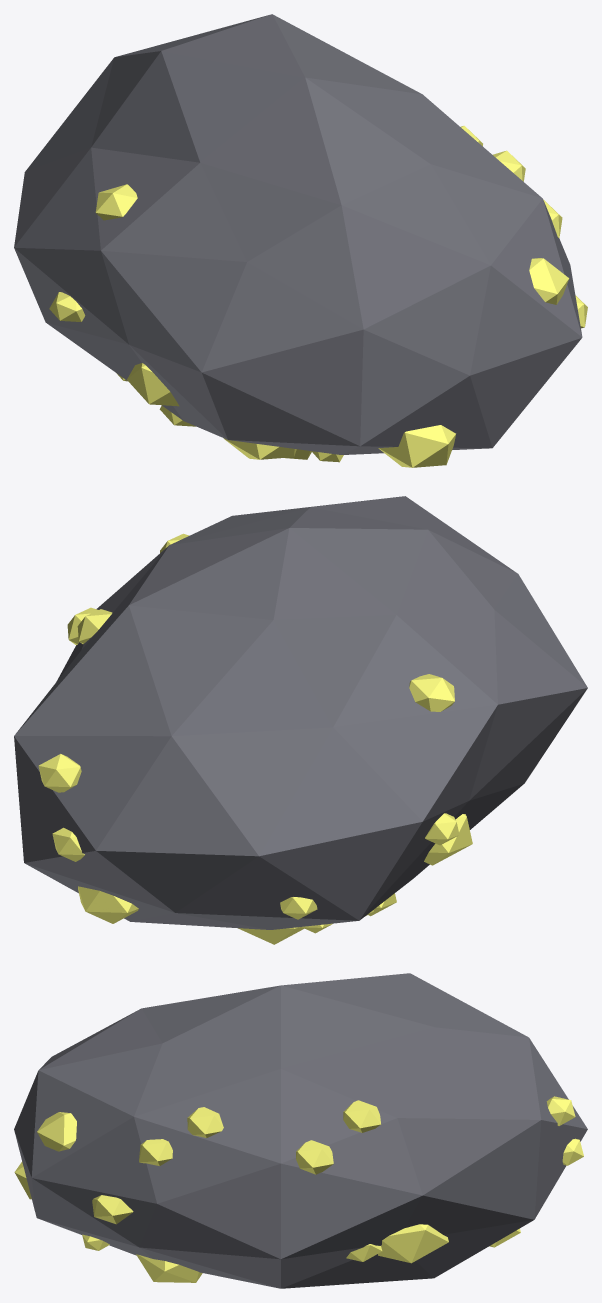
Rendered from Glowstone Harvested.fbx.
3 views of the same model, one above another, from view 1: azimuth 30°, elevation 25°; view 2: azimuth 150°, elevation 25°; view 3: azimuth 270°, elevation 25° (orthographic). The views are drawn at different scales.
Parts seen in each view (by area): view 1: polySurface2; view 2: polySurface2; view 3: polySurface2.
Part boxes in pixels (bbox=[...]): polySurface2: bbox=[14, 14, 587, 467]; polySurface2: bbox=[14, 496, 587, 944]; polySurface2: bbox=[14, 973, 587, 1288].
Size of the model in its own units: 0.8353 by 0.6813 by 1.21.
